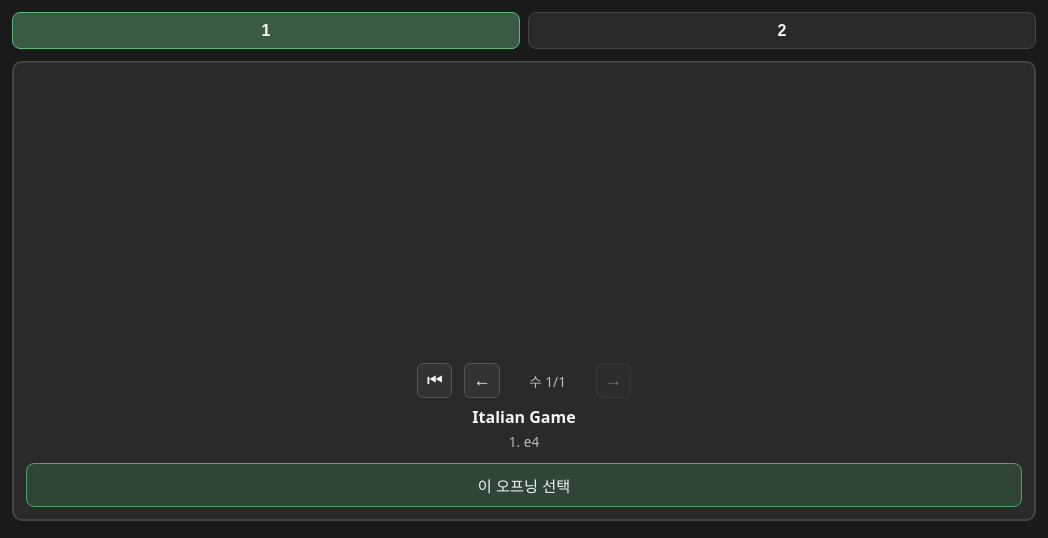
Test case: OpeningCarousel › swipes left to the second opening past the threshold
Press the mouse on the element with class "carousel" at [524, 266], box [12, 12, 1036, 521]
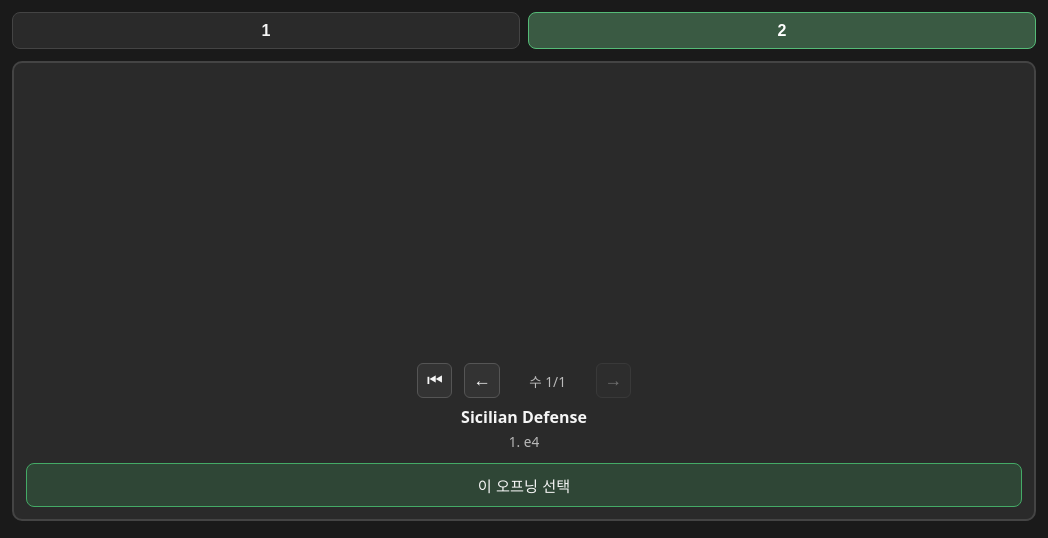
Now the heading "Sicilian Defense" is shown, box [461, 406, 587, 428]
